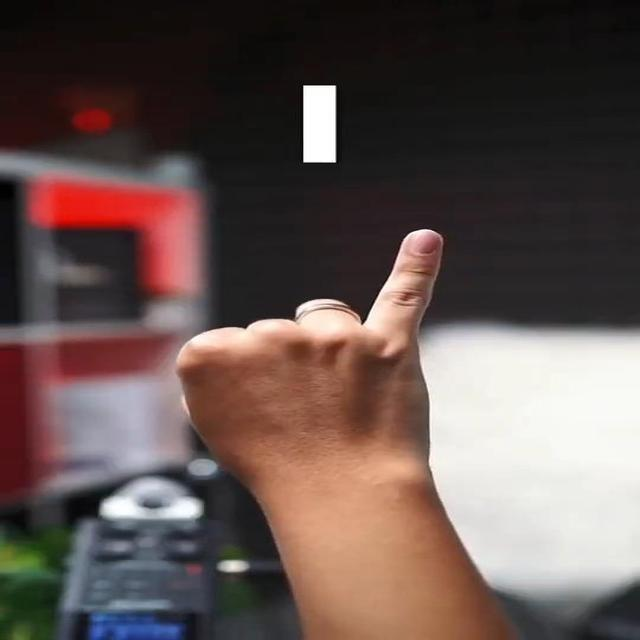I: (146, 191, 488, 524)
